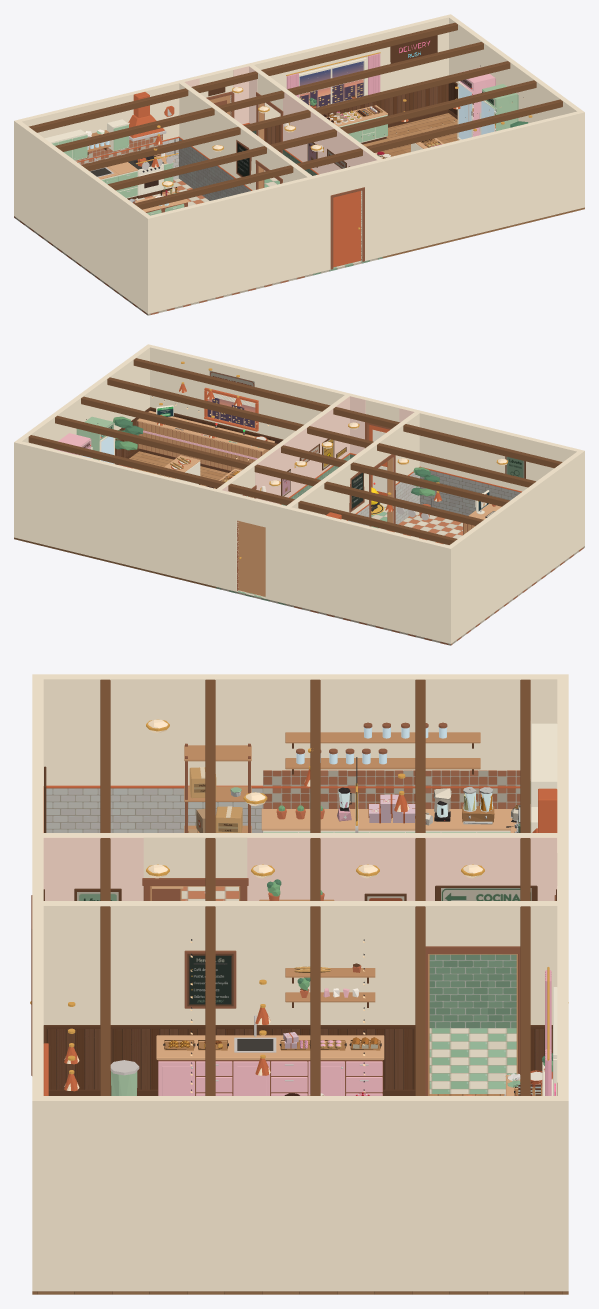
The model's file is deliveryrush.glb.
3 renders of one model, top to bottom at view 1: azimuth 30°, elevation 25°; view 2: azimuth 150°, elevation 25°; view 3: azimuth 270°, elevation 25°, orthographic. The views are drawn at different scales.
Visible parts, largest first — view 1: ARCH_Ceiling_Beams, DEC_Cafe_Shelf_Items, ARCH_Wainscot_ZonaA_Cocina, ARCH_Wainscot_ZonaCD_Cafeteria, FLOOR_ZonaCD_Cafeteria, ARCH_PickupWindow_Delivery, FLOOR_ZonaA_Cocina, PROP_Baguette.001, DEC_Clock_And_Chalkboard_Kitchen; view 2: ARCH_Ceiling_Beams, DEC_Cafe_Shelf_Items, ARCH_Wainscot_ZonaA_Cocina, FLOOR_ZonaA_Cocina, ARCH_PickupWindow_Delivery, FLOOR_ZonaCD_Cafeteria, ARCH_Wainscot_ZonaCD_Cafeteria, FLOOR_ZonaB_Pasillo, DEC_Clock_And_Chalkboard_Kitchen; view 3: ARCH_Ceiling_Beams, ARCH_Wainscot_ZonaA_Cocina, ARCH_Wainscot_ZonaCD_Cafeteria, ARCH_PassageCasing_Corridor_Delivery, DEC_Cafe_Shelf_Items, PROP_Baguette.001, FLOOR_ZonaB_Pasillo, ARCH_PickupWindow_Delivery, FLOOR_ZonaCD_Cafeteria.
Boxes of the visible parts, bbox=[...] form: ARCH_Ceiling_Beams: bbox=[14, 14, 584, 313]; DEC_Cafe_Shelf_Items: bbox=[85, 35, 532, 215]; ARCH_Wainscot_ZonaA_Cocina: bbox=[75, 134, 250, 200]; ARCH_Wainscot_ZonaCD_Cafeteria: bbox=[264, 82, 457, 150]; FLOOR_ZonaCD_Cafeteria: bbox=[264, 113, 584, 258]; ARCH_PickupWindow_Delivery: bbox=[299, 61, 363, 168]; FLOOR_ZonaA_Cocina: bbox=[14, 178, 312, 315]; PROP_Baguette.001: bbox=[129, 103, 496, 205]; DEC_Clock_And_Chalkboard_Kitchen: bbox=[167, 79, 494, 176]; ARCH_Ceiling_Beams: bbox=[14, 344, 584, 643]; DEC_Cafe_Shelf_Items: bbox=[54, 361, 508, 517]; ARCH_Wainscot_ZonaA_Cocina: bbox=[348, 470, 520, 525]; FLOOR_ZonaA_Cocina: bbox=[286, 511, 584, 645]; ARCH_PickupWindow_Delivery: bbox=[175, 371, 524, 516]; FLOOR_ZonaCD_Cafeteria: bbox=[14, 451, 228, 588]; ARCH_Wainscot_ZonaCD_Cafeteria: bbox=[115, 409, 281, 464]; FLOOR_ZonaB_Pasillo: bbox=[216, 502, 387, 605]; DEC_Clock_And_Chalkboard_Kitchen: bbox=[78, 424, 363, 510]; ARCH_Ceiling_Beams: bbox=[30, 674, 568, 1291]; ARCH_Wainscot_ZonaA_Cocina: bbox=[46, 770, 520, 832]; ARCH_Wainscot_ZonaCD_Cafeteria: bbox=[45, 1029, 552, 1089]; ARCH_PassageCasing_Corridor_Delivery: bbox=[429, 954, 516, 1028]; DEC_Cafe_Shelf_Items: bbox=[64, 719, 557, 1095]; PROP_Baguette.001: bbox=[163, 787, 542, 1095]; FLOOR_ZonaB_Pasillo: bbox=[429, 1028, 516, 1093]; ARCH_PickupWindow_Delivery: bbox=[77, 783, 531, 1006]; FLOOR_ZonaCD_Cafeteria: bbox=[32, 1094, 568, 1294].
Bounding box in the file's own units: 0.5604 × 0.1205 × 0.2993.
Materials: 17 (17 with a texture image).
